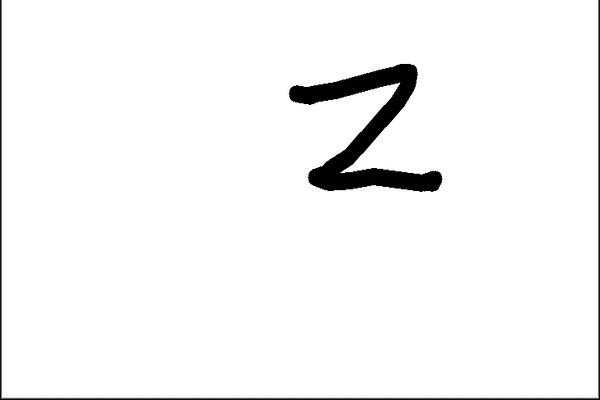Z: (284, 59, 447, 196)
